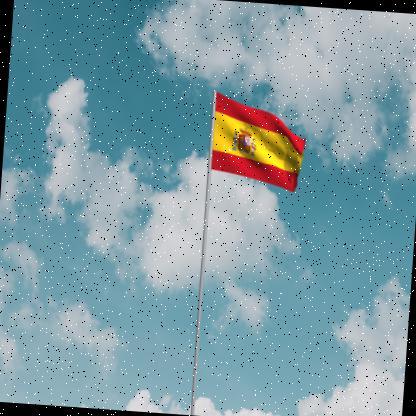es: (212, 93, 311, 196)
